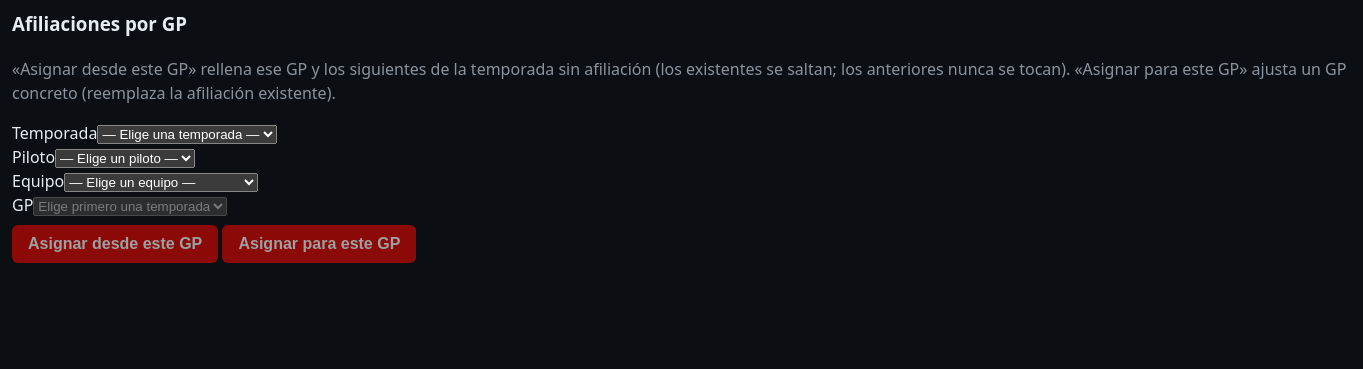
Test: AffiliationsPanel › muestra «Consultando…» mientras carga las afiliaciones
The width and height of the screenshot is (1363, 369).
Select "Francesco Bagnaia" in the dropdown labelled "Piloto" at coordinates (125, 158), box [55,148,195,168]
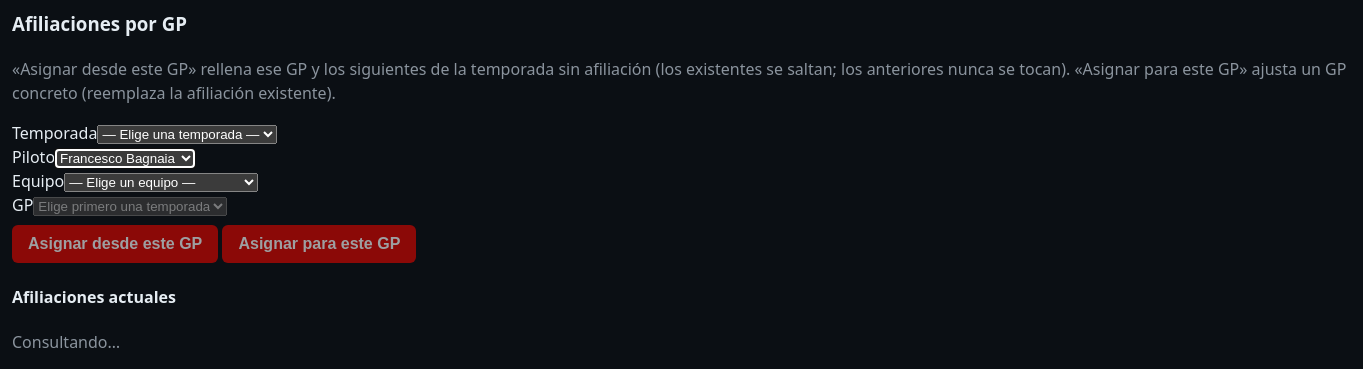
expect the text "Consultando…" is shown: met, box [12,331,120,353]
